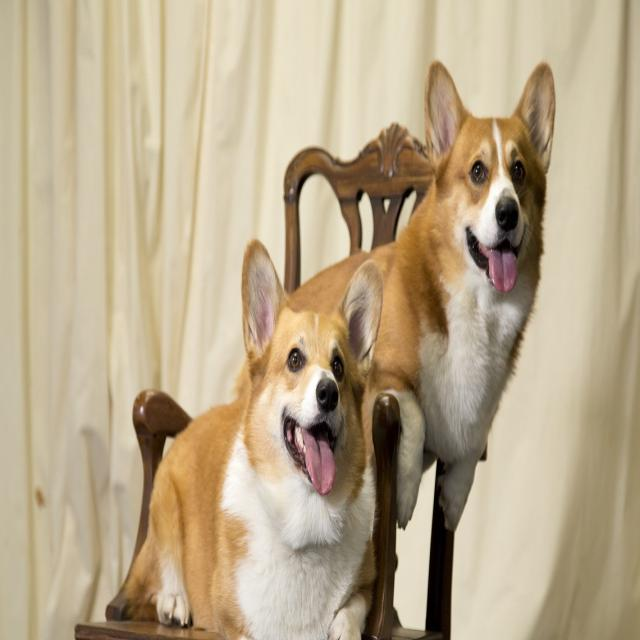CORGI: (281, 40, 574, 520), (117, 236, 386, 640)
